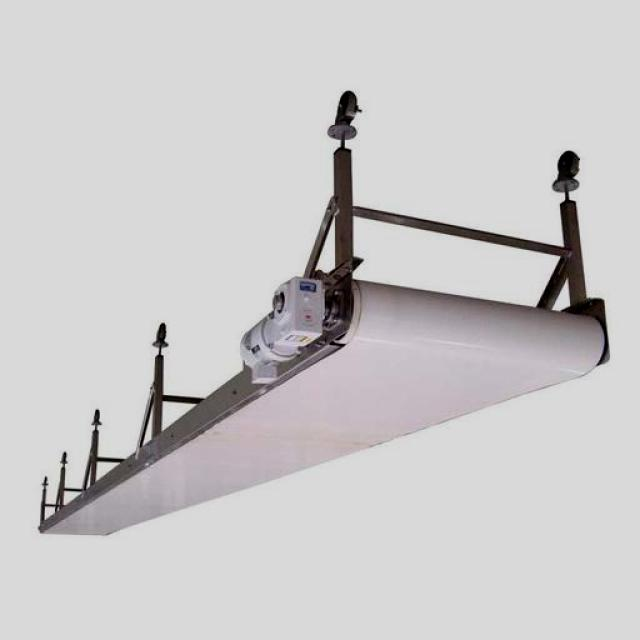conveyor: (40, 296, 605, 538)
